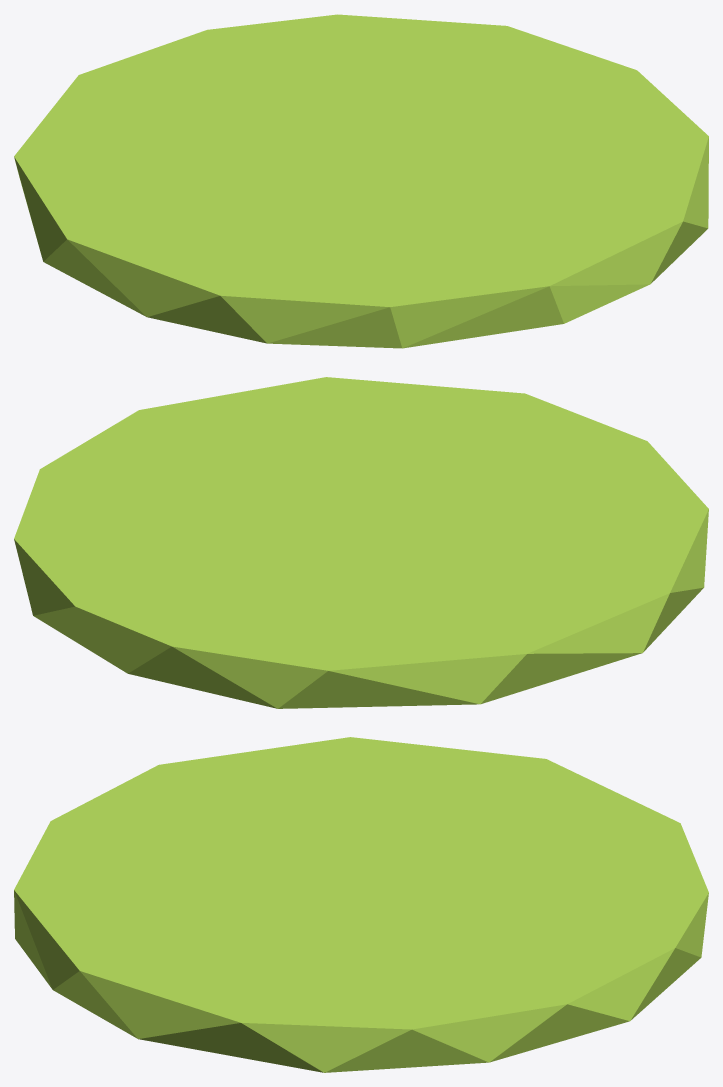
Rendered from ur10_e_link_2_coll_5.dae.
The picture shows the model from 3 angles, top to bottom: view 1: azimuth 30°, elevation 25°; view 2: azimuth 150°, elevation 25°; view 3: azimuth 270°, elevation 25°; orthographic projection.
Parts seen in each view (by area): view 1: node; view 2: node; view 3: node.
Part boxes in pixels (box(x1,y1,x2,y2)): node: box(14, 14, 708, 348); node: box(14, 377, 708, 708); node: box(14, 737, 708, 1072).
Bounding box in the file's own units: 0.1513 × 0.01 × 0.1511.
